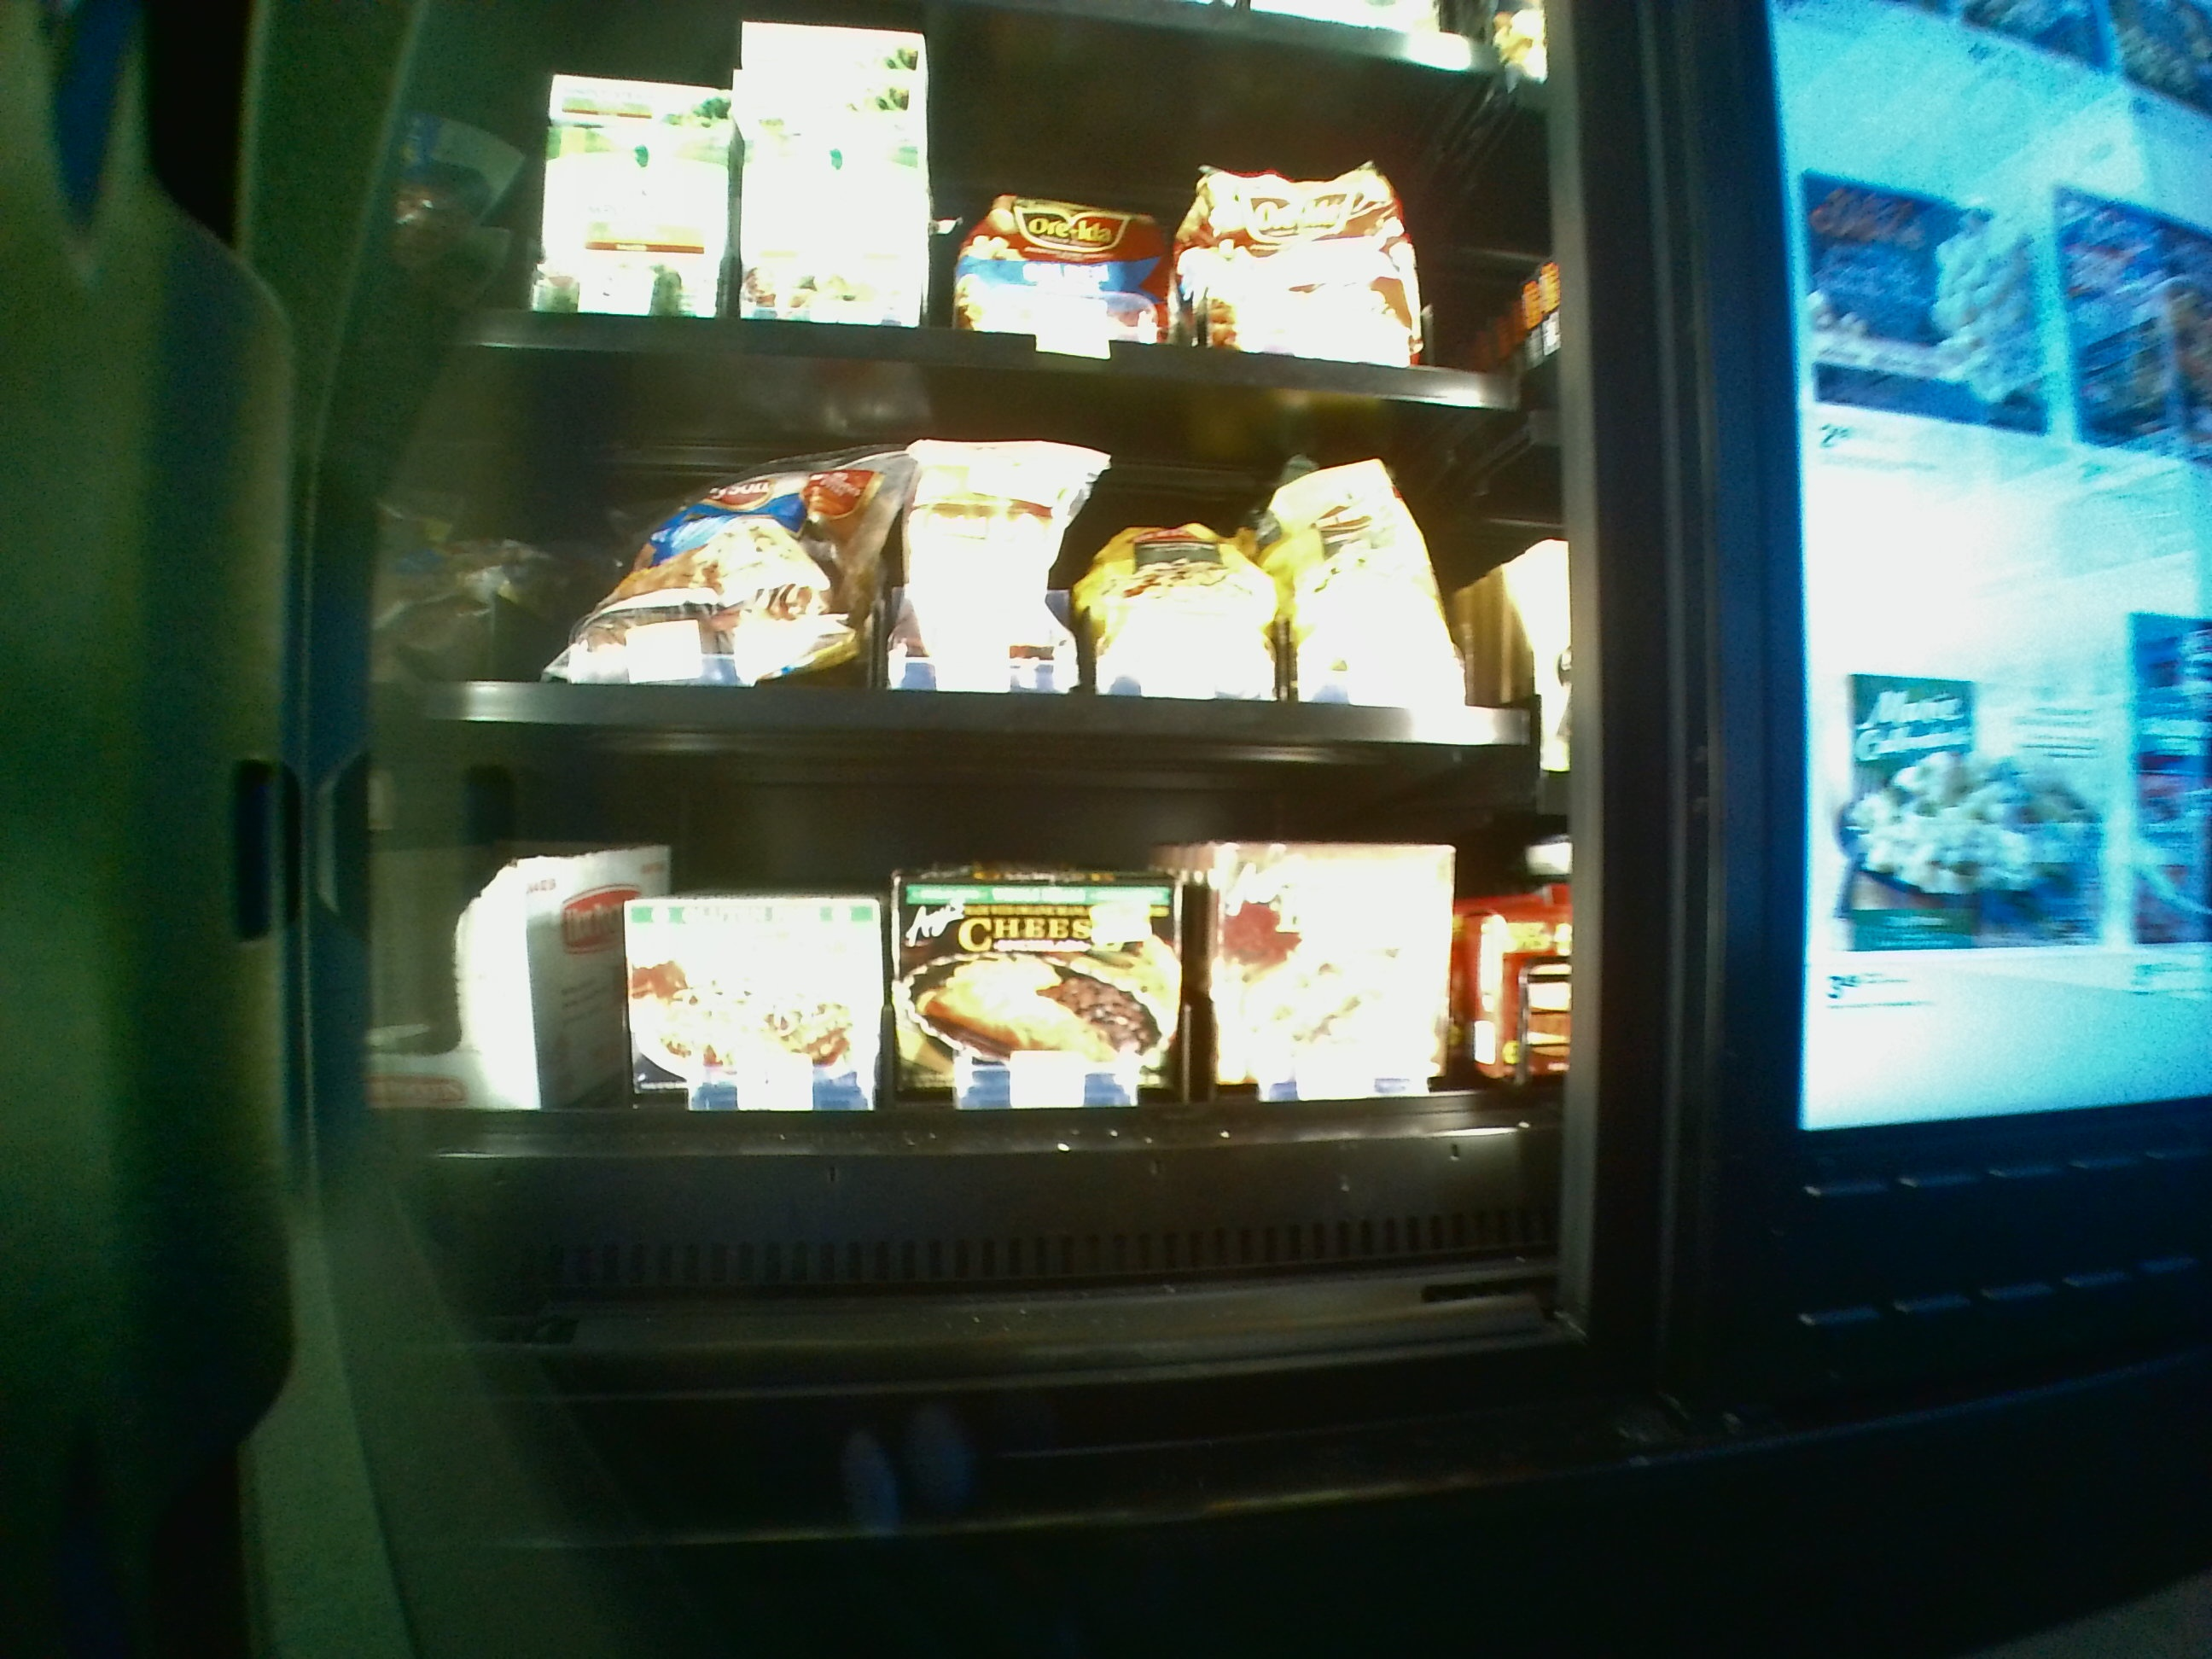shelf: (411, 758, 1564, 1316), (409, 357, 1561, 744)
